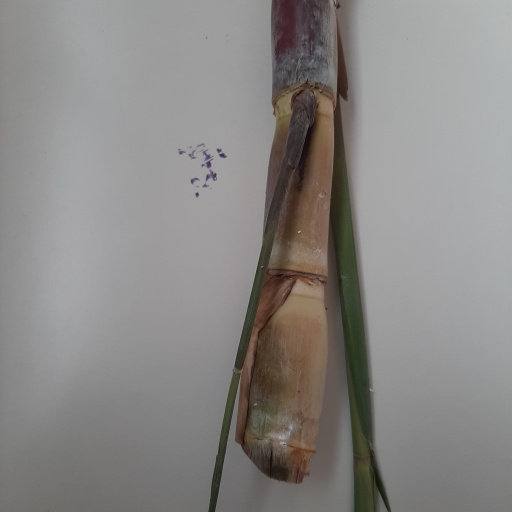Sprouted_Bud: (289, 87, 317, 151)
